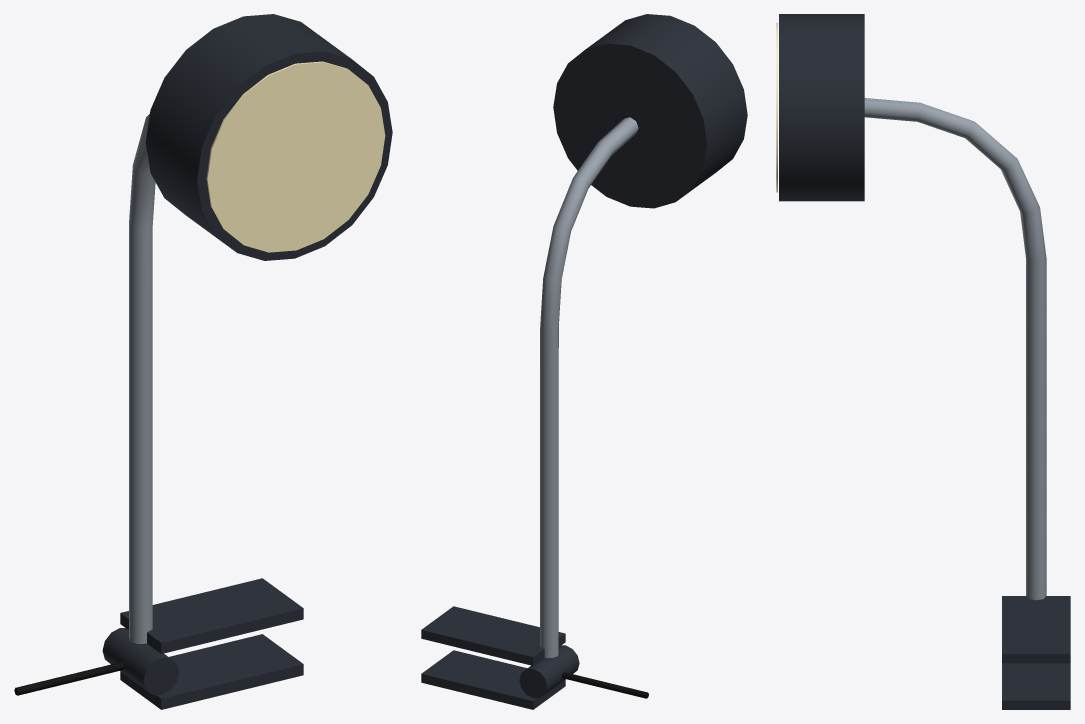
Rendered from lamp-clip-led.glb.
3 views of the same model, side by side, from view 1: azimuth 30°, elevation 25°; view 2: azimuth 150°, elevation 25°; view 3: azimuth 270°, elevation 25° (orthographic). The views are drawn at different scales.
Parts seen in each view (by area): view 1: lamp_emitter, lamp_head, gooseneck, clip_jaw_top, clip_jaw_bottom, clip_knuckle, lamp_cord; view 2: lamp_head, gooseneck, clip_jaw_top, clip_jaw_bottom, clip_knuckle, lamp_cord; view 3: lamp_head, gooseneck, clip_jaw_top, clip_jaw_bottom.
Part boxes in pixels (x1,y1,x2,y2): lamp_emitter: [206, 61, 385, 252]; lamp_head: [145, 14, 392, 260]; gooseneck: [129, 114, 155, 643]; clip_jaw_top: [120, 578, 303, 653]; clip_jaw_bottom: [120, 634, 303, 709]; clip_knuckle: [102, 628, 178, 694]; lamp_cord: [14, 662, 124, 695]; lamp_head: [553, 14, 747, 208]; gooseneck: [540, 117, 638, 657]; clip_jaw_top: [421, 606, 565, 665]; clip_jaw_bottom: [421, 650, 565, 709]; clip_knuckle: [519, 645, 579, 698]; lamp_cord: [562, 672, 648, 698]; lamp_head: [779, 14, 864, 201]; gooseneck: [864, 98, 1046, 600]; clip_jaw_top: [1002, 596, 1070, 663]; clip_jaw_bottom: [1002, 663, 1070, 709].
Size of the model in its own units: 0.15 by 0.405 by 0.1715.
